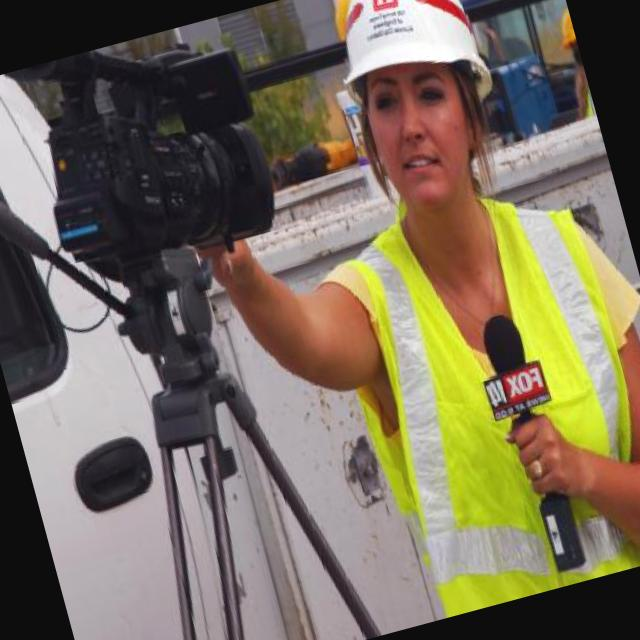Person: (218, 0, 640, 635)
